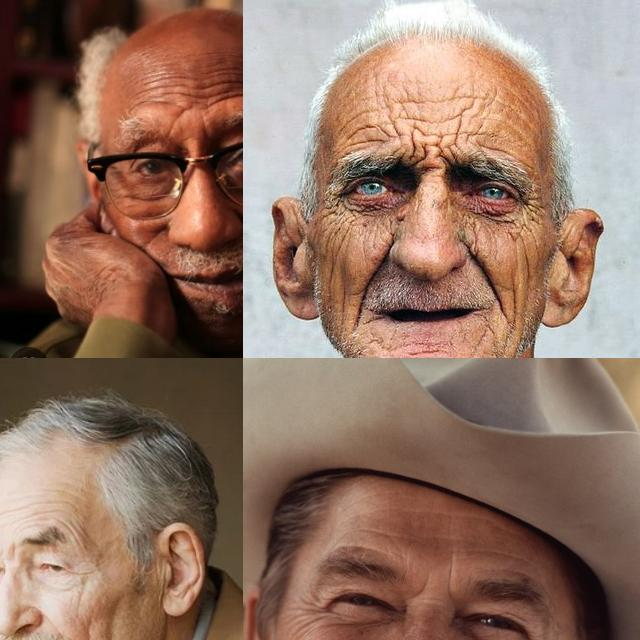bunny_line: (462, 217, 482, 251), (386, 217, 402, 241)
chin: (408, 337, 451, 358), (467, 326, 491, 358), (366, 333, 394, 353)
crows_feet: (294, 590, 328, 628), (62, 558, 88, 586), (326, 190, 346, 220), (522, 193, 542, 223), (524, 626, 556, 640)
forehead: (451, 86, 493, 138), (356, 524, 412, 550), (387, 96, 421, 134), (342, 112, 380, 146), (16, 492, 46, 528), (198, 69, 226, 103), (480, 544, 532, 562), (167, 70, 191, 106), (62, 514, 86, 548), (138, 77, 162, 106), (233, 79, 243, 105)
frown_line: (408, 144, 452, 166), (440, 558, 460, 604), (408, 568, 432, 602), (195, 114, 211, 138), (164, 116, 176, 138)
gummy_smile: (357, 248, 383, 308), (470, 256, 506, 296)
masseter: (326, 235, 342, 297), (510, 288, 522, 346)
